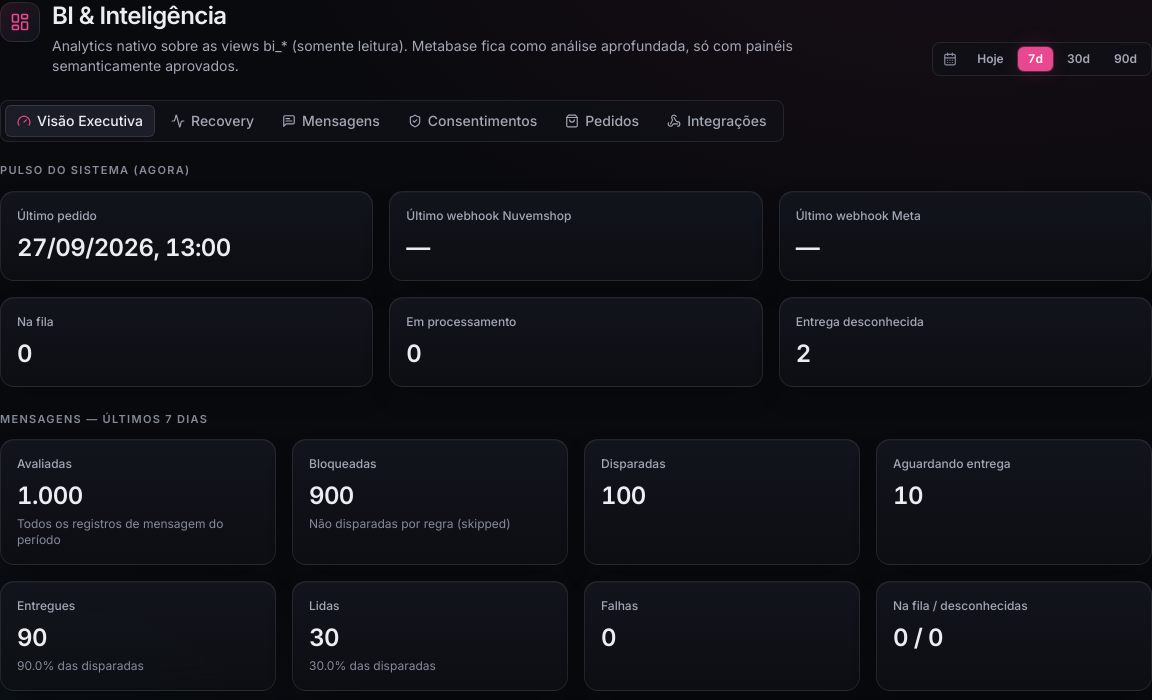
Test: BiPage › recovery: dois grupos subordinados + pedido vinculado com DATA_QUALITY_WARNING
Click the tab "Recovery" at {"x": 213, "y": 121}, box [159,105,266,137]
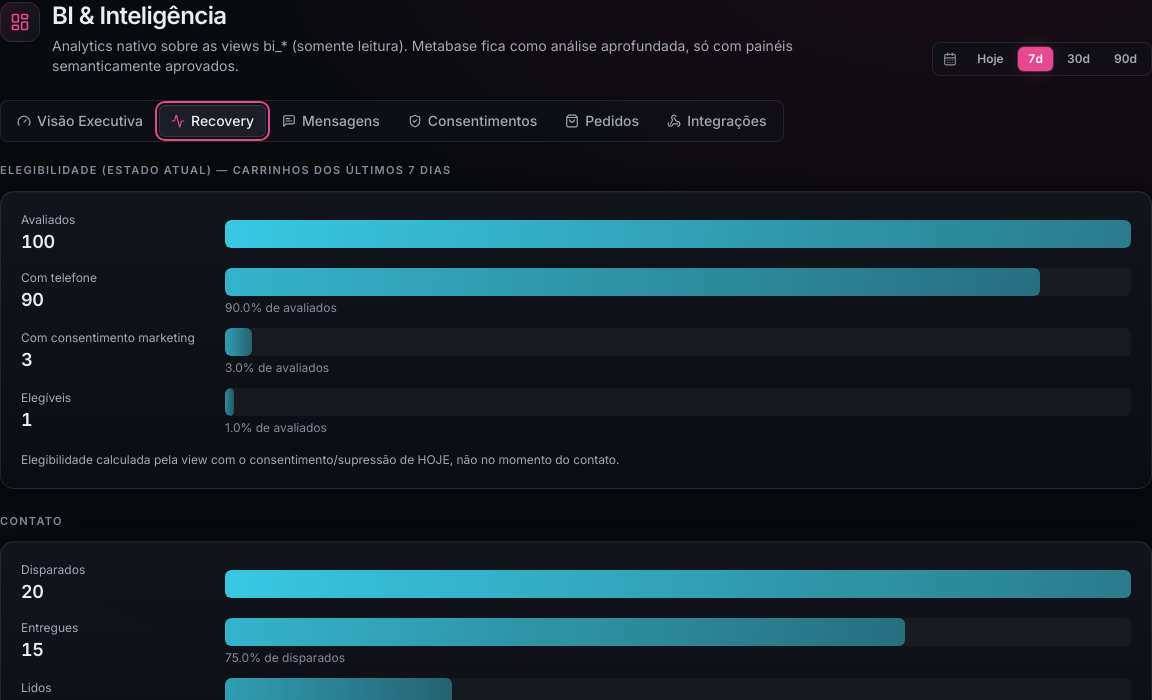
Check: the text "Com consentimento marketing" is shown, box [21,330,213,346]
Check: the text "75.0% de disparados" is shown, box [225,650,345,665]
